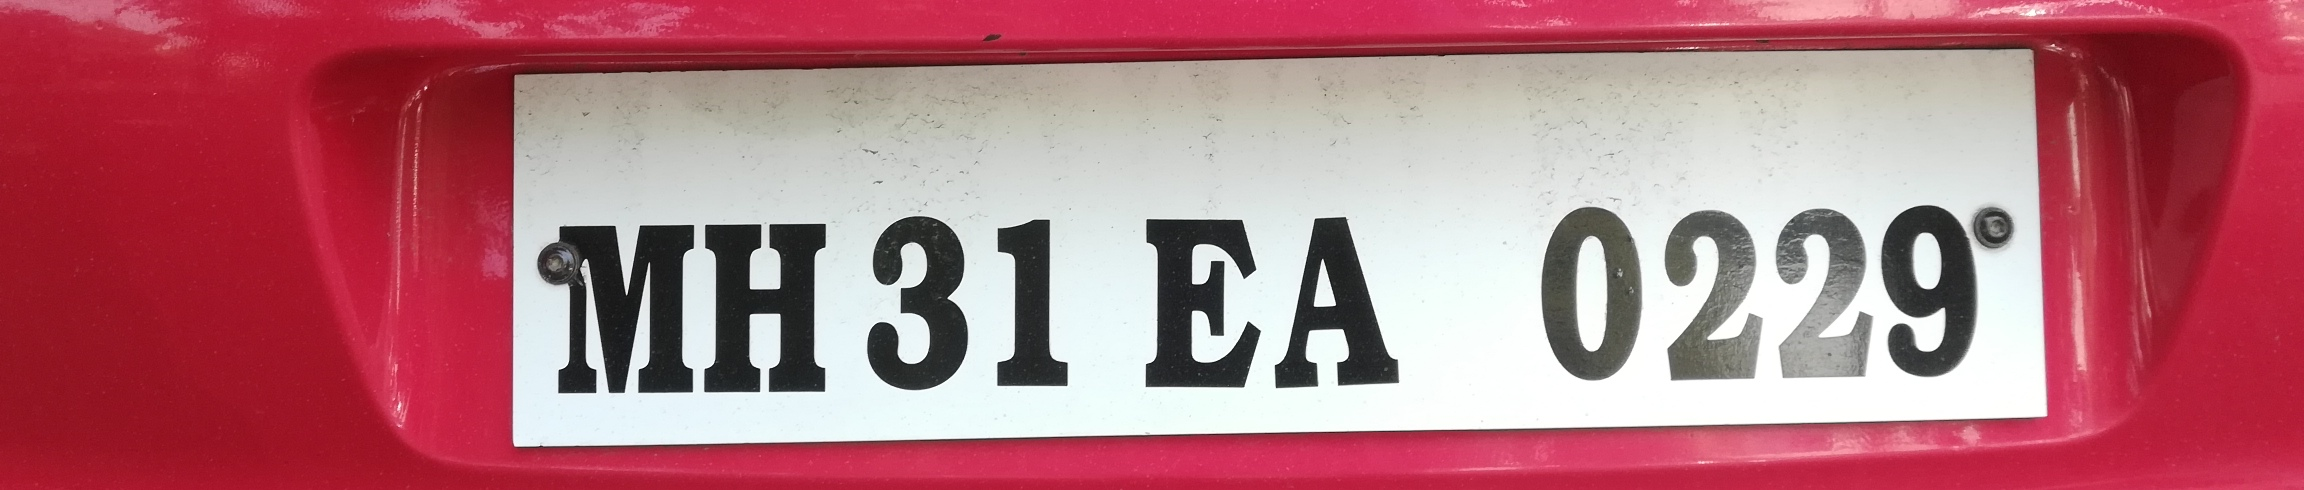numberplate: (503, 45, 2058, 454)
